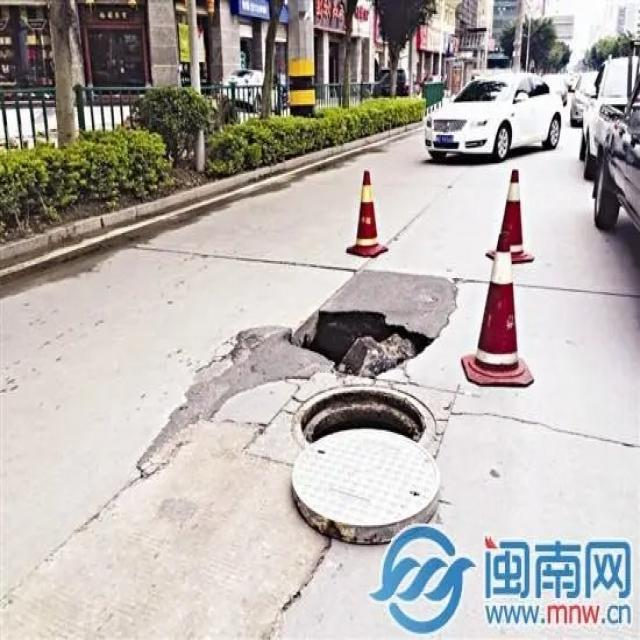Pothole: (285, 304, 435, 376), (282, 382, 441, 449)
